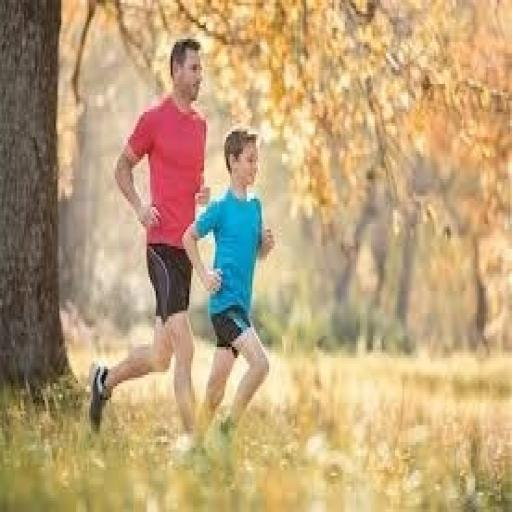running: (86, 34, 214, 456), (180, 126, 276, 456)
